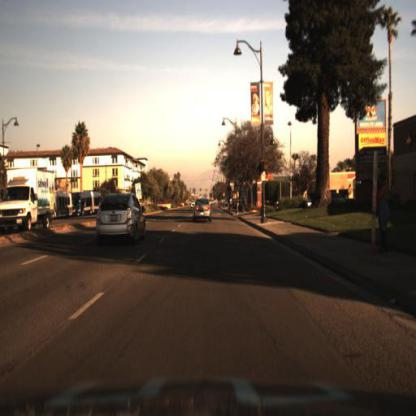car: (95, 191, 150, 247), (191, 196, 216, 228)
pedestrian: (375, 173, 392, 256), (243, 195, 248, 214)
truck: (1, 164, 61, 235), (1, 164, 57, 235), (53, 189, 80, 222), (77, 190, 108, 217)
